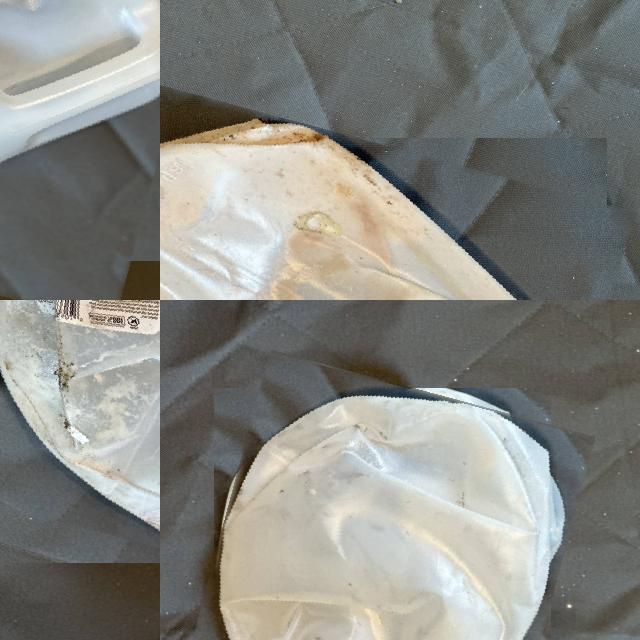milk-jug: (191, 367, 573, 640), (160, 105, 621, 300), (0, 0, 160, 292), (0, 300, 160, 590)
